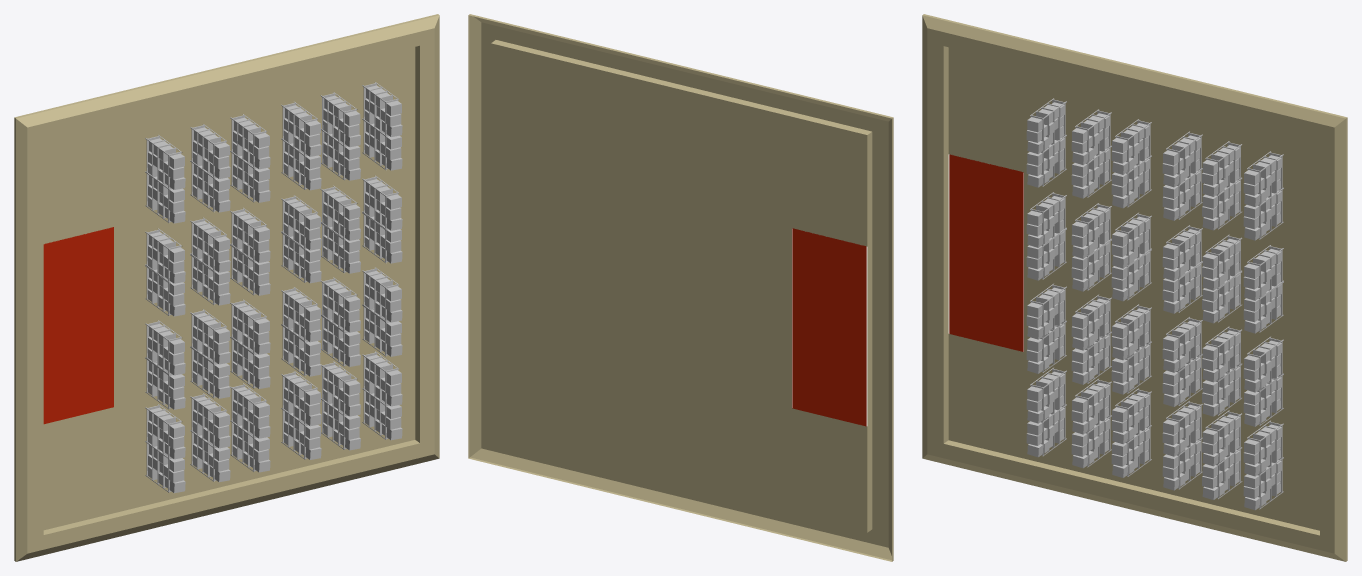
The model's file is map.obj.
The picture shows the model from 3 angles, left to right: view 1: azimuth 30°, elevation 25°; view 2: azimuth 150°, elevation 25°; view 3: azimuth 330°, elevation 25°; orthographic projection.
Parts seen in each view (by area): view 1: Plane, Plane.001; view 2: Plane, Plane.001; view 3: Plane, Plane.001.
Boxes of the visible parts, x1,y1,x2,y2 form: Plane: (14, 14, 439, 561); Plane.001: (43, 227, 113, 424); Plane: (468, 14, 893, 561); Plane.001: (792, 228, 866, 426); Plane: (922, 14, 1347, 561); Plane.001: (949, 154, 1023, 351).
Bounding box in the file's own units: 30 × 30 × 3.46.
